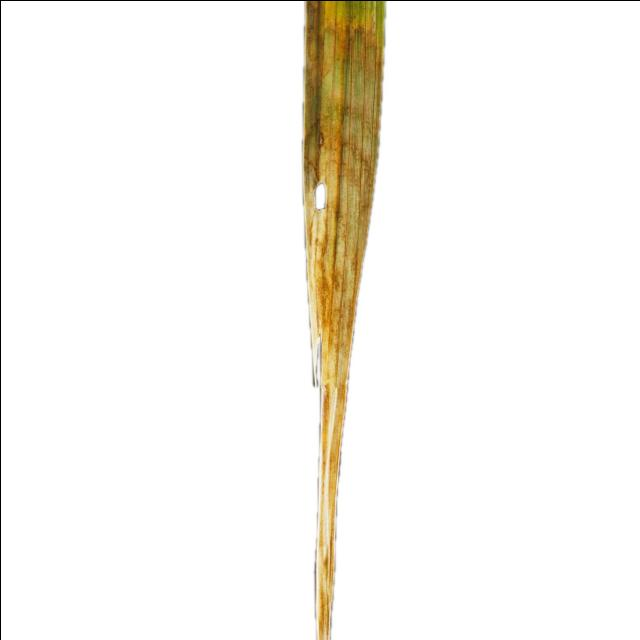Leaf scald: (164, 0, 443, 640)
